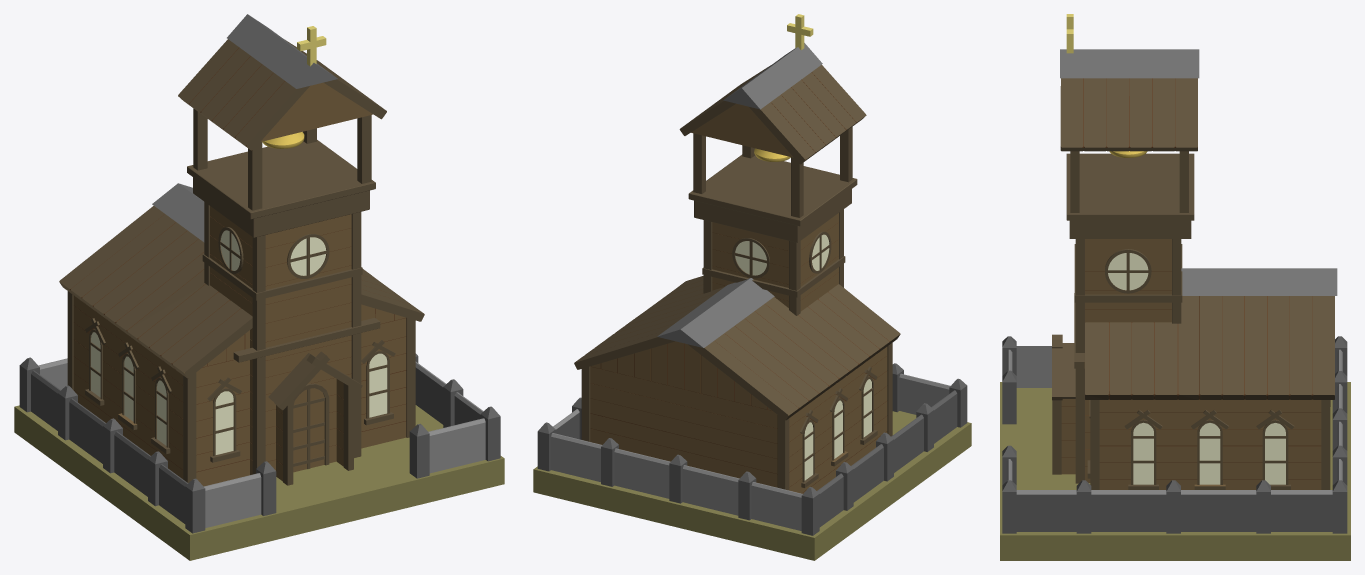
Rendered from Wild West Tower Upgrade 2.fbx.
3 views of the same model, side by side, from view 1: azimuth 30°, elevation 25°; view 2: azimuth 150°, elevation 25°; view 3: azimuth 270°, elevation 25° (orthographic). The views are drawn at different scales.
Visible parts, largest first — view 1: tower upgrade 2; view 2: tower upgrade 2; view 3: tower upgrade 2.
Part boxes in pixels (x1=…): tower upgrade 2: x1=14, y1=14, x2=504, y2=560; tower upgrade 2: x1=533, y1=14, x2=971, y2=560; tower upgrade 2: x1=1000, y1=14, x2=1350, y2=560.
Bounding box in the file's own units: 5988 × 8529 × 5788.
